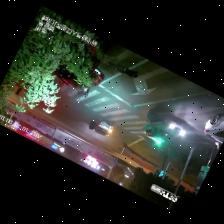person: (114, 64, 137, 76)
